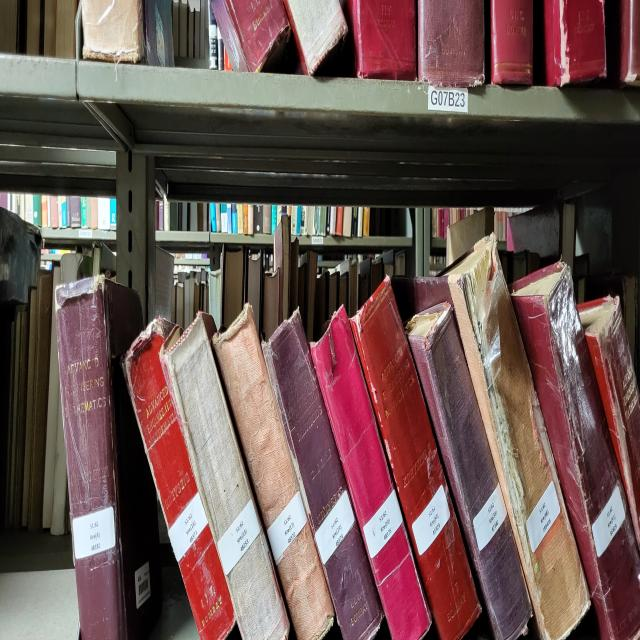Book: (448, 233, 590, 639), (510, 262, 640, 639), (351, 279, 480, 639), (406, 300, 531, 639), (162, 314, 289, 639), (212, 303, 334, 639), (311, 308, 431, 639), (262, 311, 382, 639), (56, 276, 162, 639), (122, 317, 234, 639), (579, 295, 640, 547), (211, 0, 291, 73), (418, 0, 485, 87), (346, 0, 416, 81), (544, 0, 606, 87), (284, 0, 348, 76), (81, 0, 146, 62), (491, 0, 532, 87), (620, 0, 640, 87)
Label: (218, 501, 260, 576), (315, 490, 355, 565), (169, 492, 208, 563), (268, 492, 306, 563), (412, 484, 450, 555), (364, 490, 402, 557), (592, 484, 625, 557), (526, 482, 560, 552), (72, 506, 115, 560), (474, 484, 506, 549)
